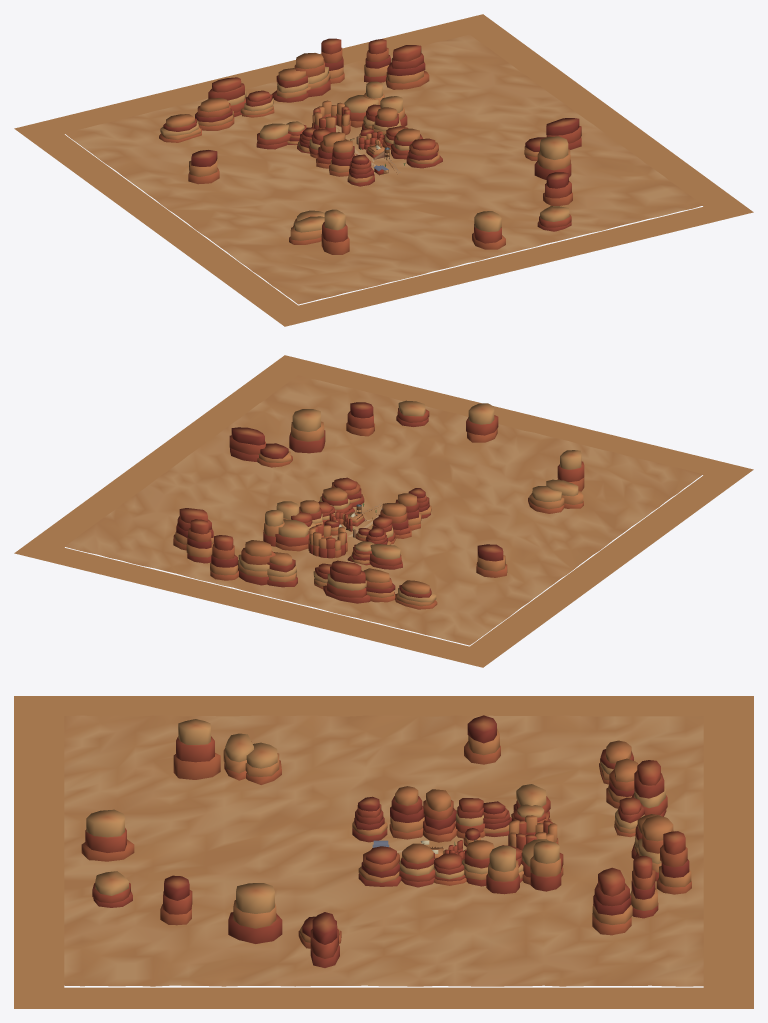
3 views of the same model, one above another, from view 1: azimuth 30°, elevation 25°; view 2: azimuth 150°, elevation 25°; view 3: azimuth 270°, elevation 25° (orthographic). The views are drawn at different scales.
Visible parts, largest first — view 1: baked; view 2: baked; view 3: baked.
Part boxes in pixels (<box>): baked: <box>14,14,753,326</box>; baked: <box>14,355,753,667</box>; baked: <box>14,696,753,1008</box>.
Size of the model in its own units: 500 by 38.2 by 500.
